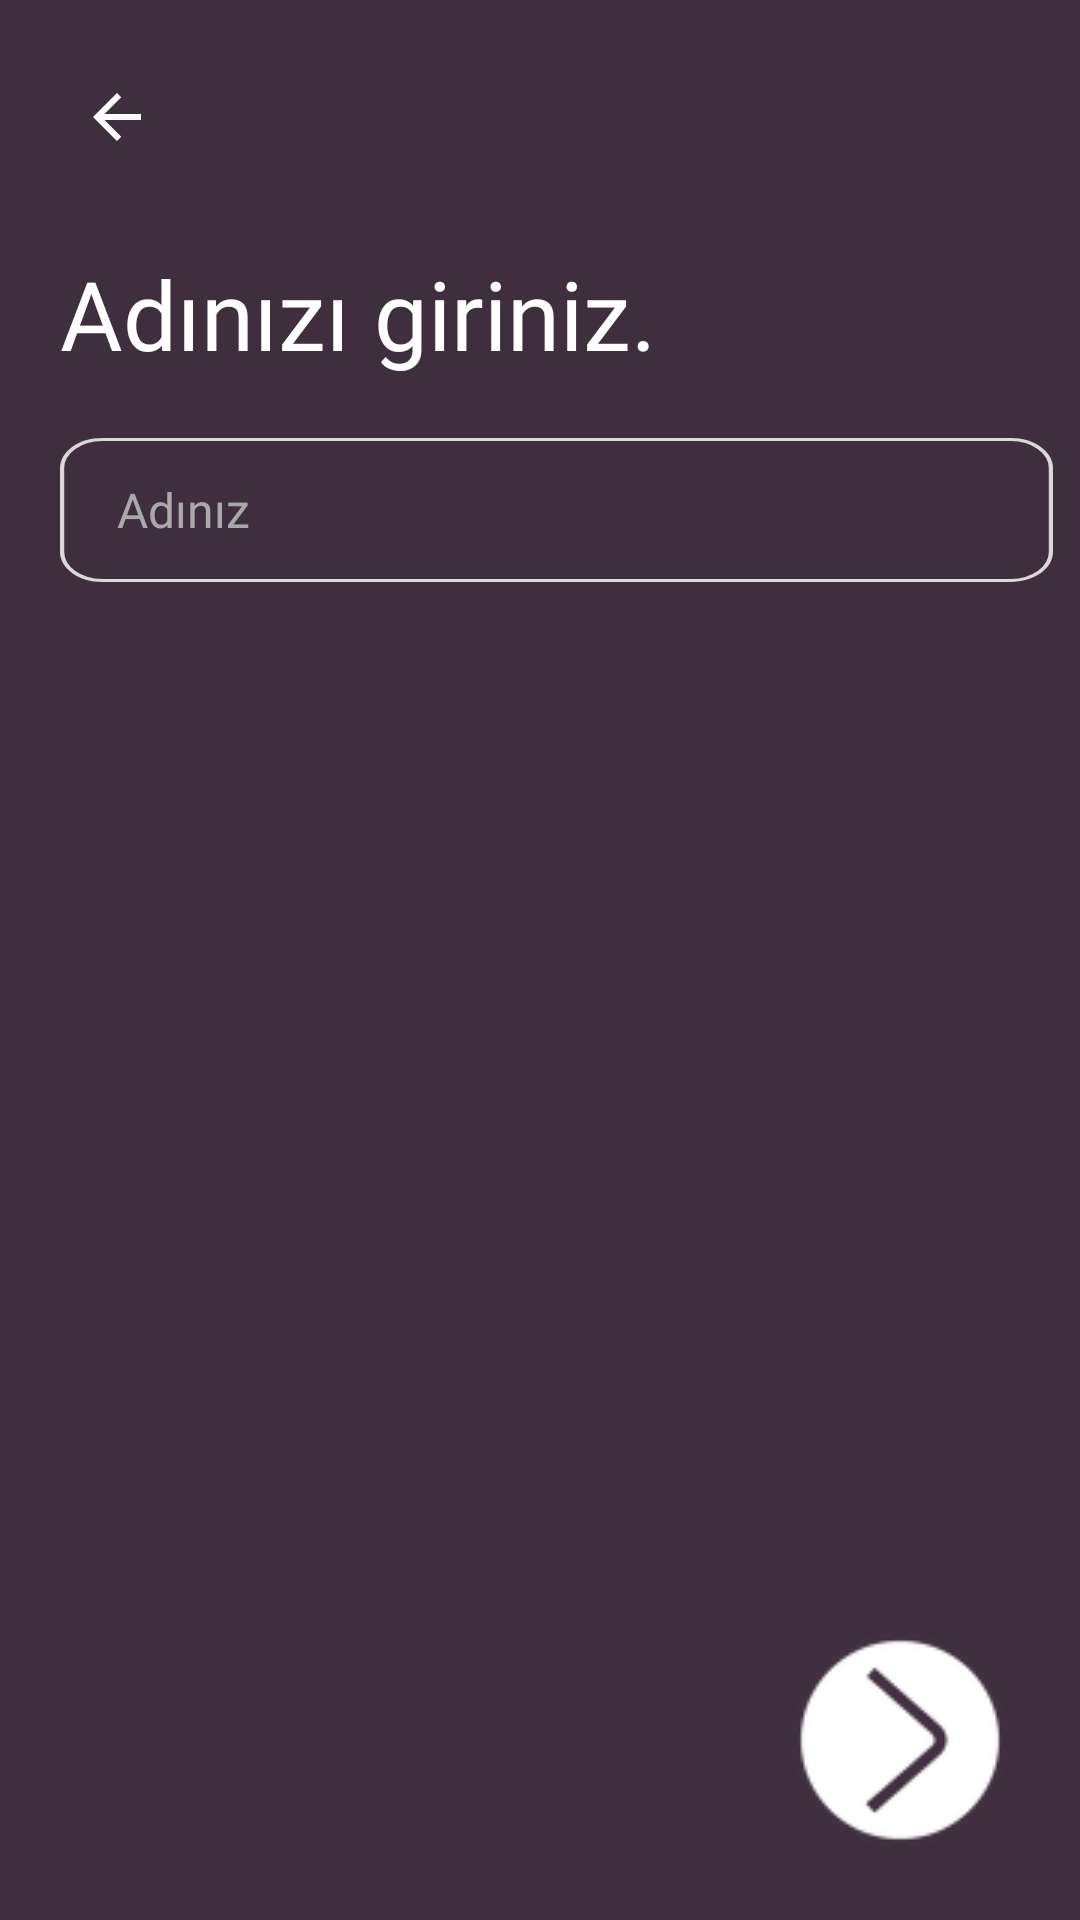

Icon click points for this 1080*1920 phone screenshot, format (x=x, y=y):
Geri: (x=117, y=117)
İleri Git: (x=900, y=1740)
